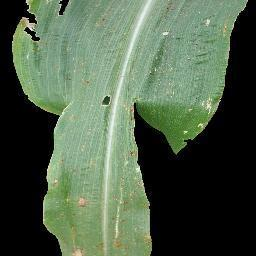Corn_Common_Rust: (40, 165, 176, 256), (179, 94, 220, 144), (122, 95, 147, 165), (8, 0, 41, 46), (203, 12, 245, 42), (94, 0, 116, 29), (161, 0, 189, 17), (52, 0, 76, 15), (162, 26, 180, 41), (102, 96, 116, 110)
